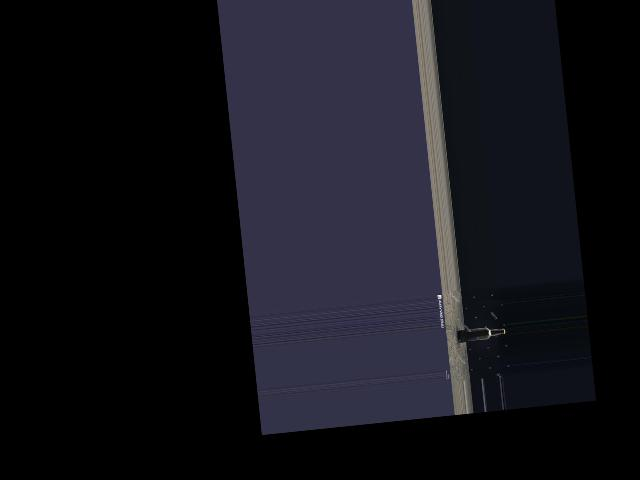beer: (457, 326, 505, 342)
